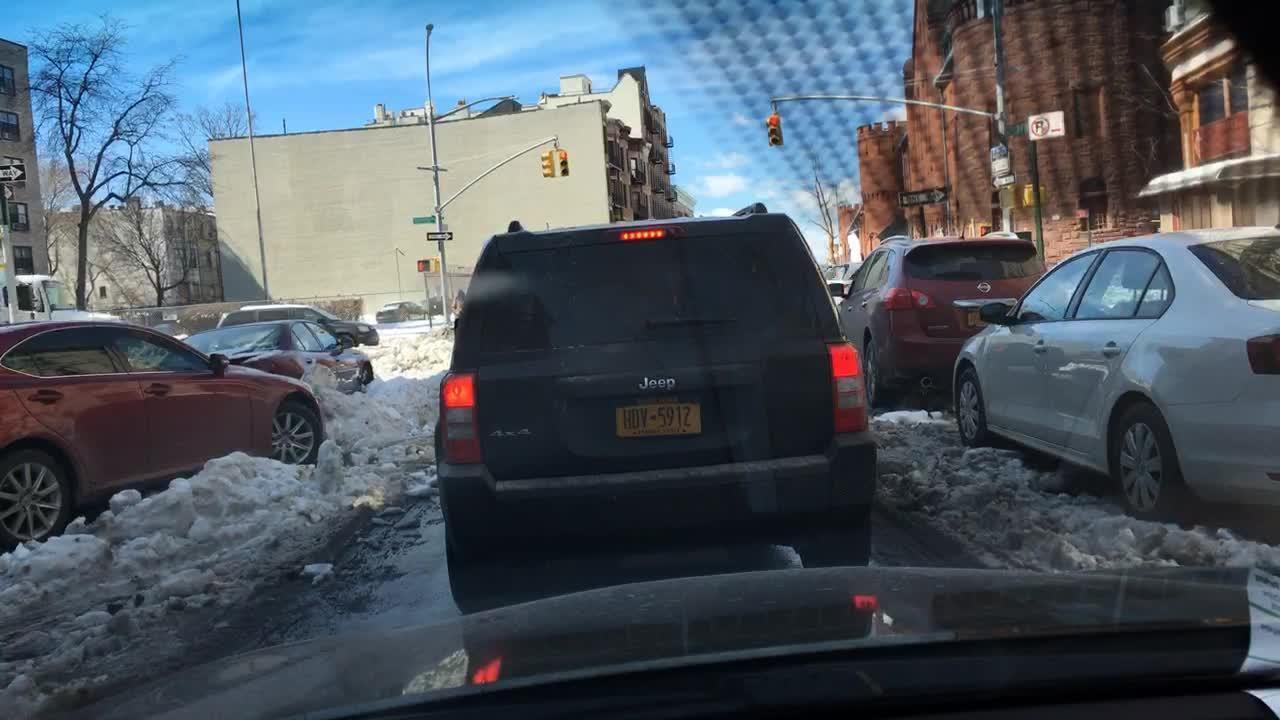Nissan: (963, 274, 1002, 298)
jeep: (632, 366, 695, 396)
